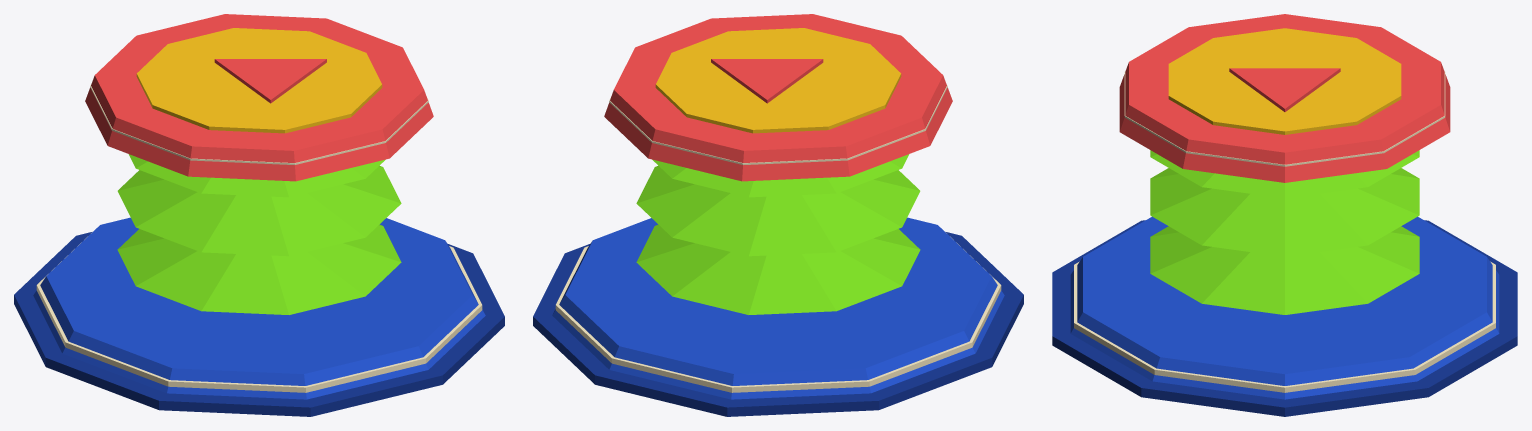
The model's file is spring.glb.
3 renders of one model, left to right at view 1: azimuth 30°, elevation 25°; view 2: azimuth 150°, elevation 25°; view 3: azimuth 270°, elevation 25°, orthographic.
Visible parts, largest first — view 1: SpringBase, SpringHead, SpringCoil; view 2: SpringBase, SpringHead, SpringCoil; view 3: SpringBase, SpringHead, SpringCoil.
Part boxes in pixels (x1,y1,x2,y2): SpringBase: [14, 217, 504, 416]; SpringHead: [85, 14, 433, 181]; SpringCoil: [117, 154, 401, 314]; SpringBase: [533, 217, 1023, 416]; SpringHead: [604, 14, 952, 181]; SpringCoil: [636, 154, 920, 314]; SpringBase: [1052, 216, 1517, 416]; SpringHead: [1119, 14, 1450, 182]; SpringCoil: [1150, 150, 1419, 314].
Bounding box in the file's own units: 0.76 × 0.407 × 0.7228.
Materials: 1 (1 with a texture image).
